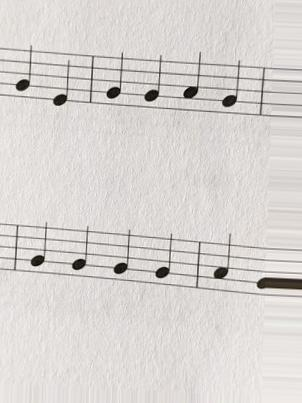note: (180, 47, 205, 118), (46, 48, 73, 111), (11, 42, 37, 104), (141, 50, 165, 116), (213, 225, 234, 296), (217, 57, 241, 119), (103, 51, 127, 111), (71, 221, 94, 282), (28, 220, 50, 281), (153, 229, 177, 284), (114, 228, 134, 287)
